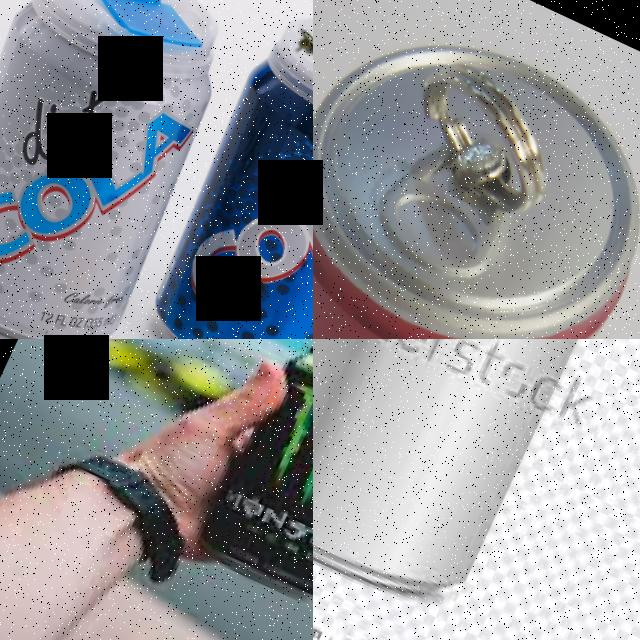can: (313, 0, 640, 339), (313, 339, 640, 623), (0, 0, 262, 339), (127, 0, 313, 339), (187, 339, 313, 618)
